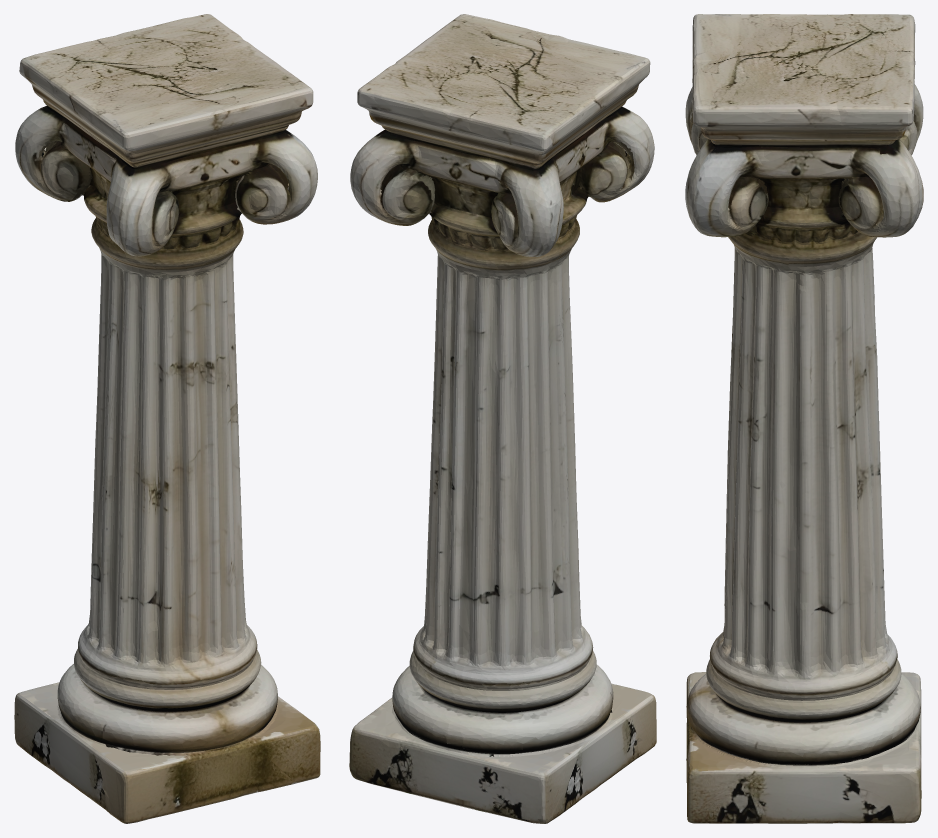
File: fluted-granite-pillar-with-elephant-corbel-optimized.glb
The picture shows the model from 3 angles, left to right: view 1: azimuth 30°, elevation 25°; view 2: azimuth 150°, elevation 25°; view 3: azimuth 270°, elevation 25°; orthographic projection. The views are drawn at different scales.
Visible parts, largest first — view 1: a33adcb1-d48d-4159-a63e-6d5f0384a546_texturing.obj; view 2: a33adcb1-d48d-4159-a63e-6d5f0384a546_texturing.obj; view 3: a33adcb1-d48d-4159-a63e-6d5f0384a546_texturing.obj.
Boxes of the visible parts, x1=… form: a33adcb1-d48d-4159-a63e-6d5f0384a546_texturing.obj: x1=14, y1=14, x2=320, y2=823; a33adcb1-d48d-4159-a63e-6d5f0384a546_texturing.obj: x1=349, y1=14, x2=656, y2=823; a33adcb1-d48d-4159-a63e-6d5f0384a546_texturing.obj: x1=685, y1=14, x2=923, y2=823.
Bounding box in the file's own units: 1.17 × 3.8 × 1.15.
1 material, 1 textured.
